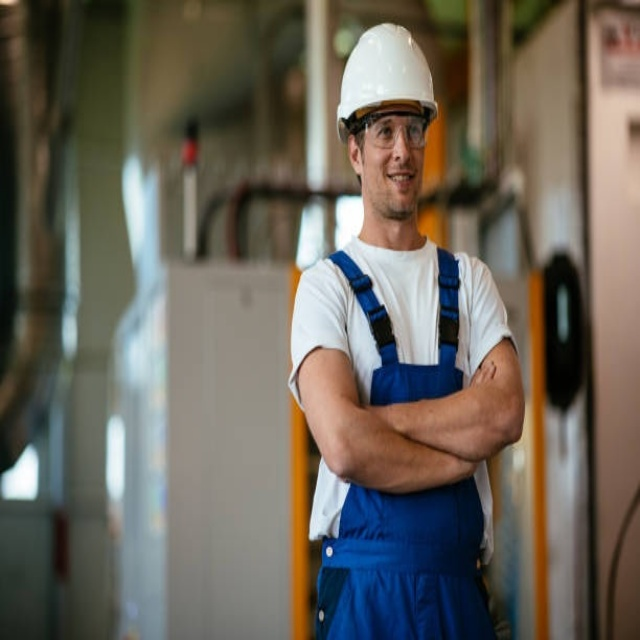Gafas: (359, 119, 431, 151)
Sin_mascara: (380, 165, 421, 207)
